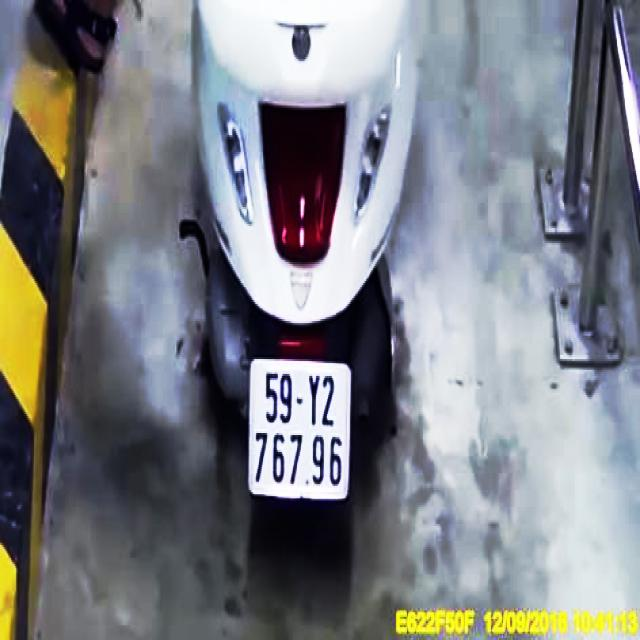license_plate: (252, 362, 353, 501)
